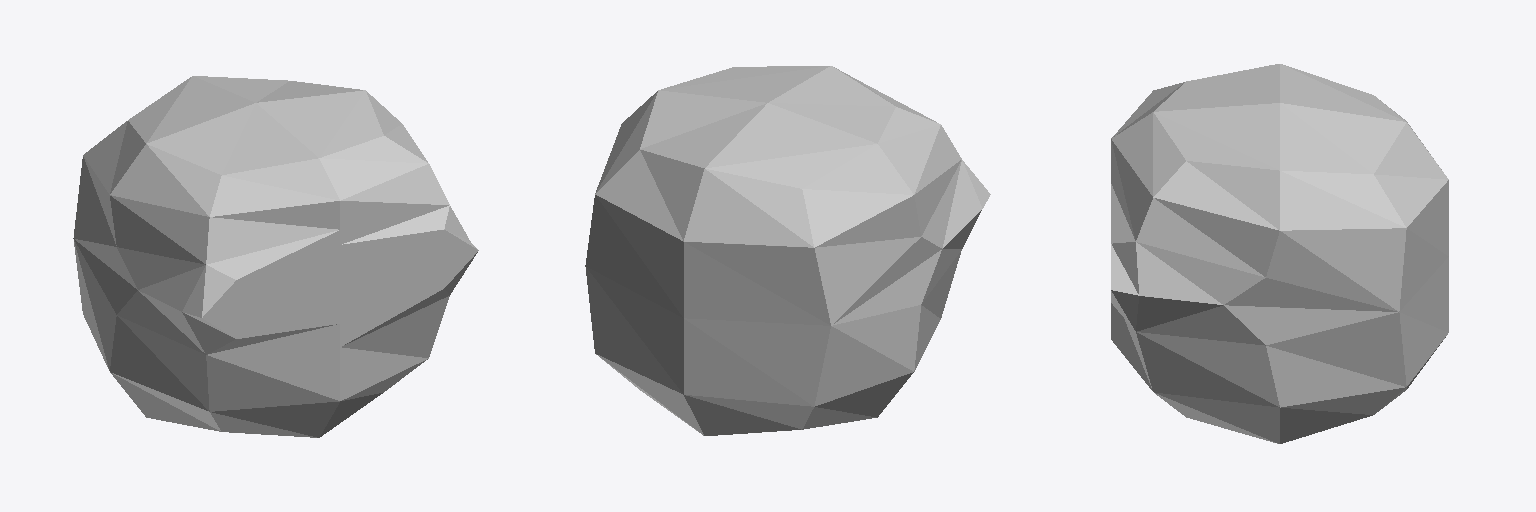
The model's file is camera.obj.
The picture shows the model from 3 angles: view 1: azimuth 30°, elevation 25°; view 2: azimuth 150°, elevation 25°; view 3: azimuth 270°, elevation 25°; orthographic projection.
Parts seen in each view (by area): view 1: Cube; view 2: Cube; view 3: Cube.
Part boxes in pixels (left/top/right/bottom): Cube: left=73, top=76, right=478, bottom=437; Cube: left=585, top=66, right=990, bottom=435; Cube: left=1111, top=64, right=1448, bottom=443.
Size of the model in its own units: 2 by 2 by 2.